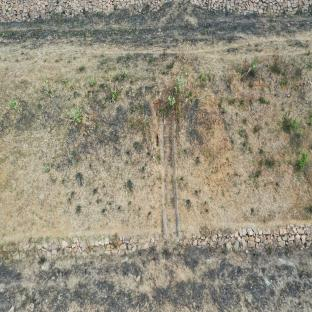rock_toe: (0, 224, 312, 274)
slope_drain: (157, 93, 185, 241)
